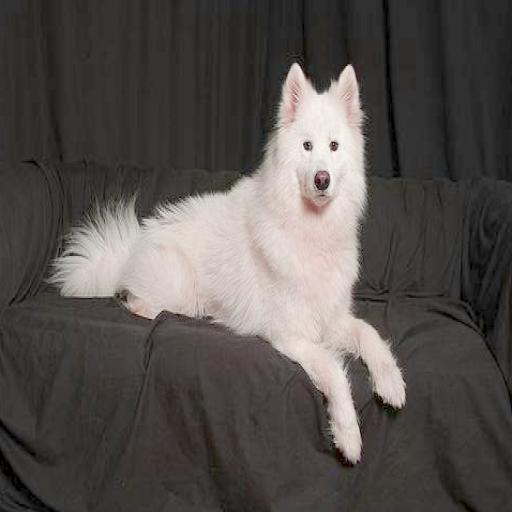dog_face: (282, 63, 366, 216)
